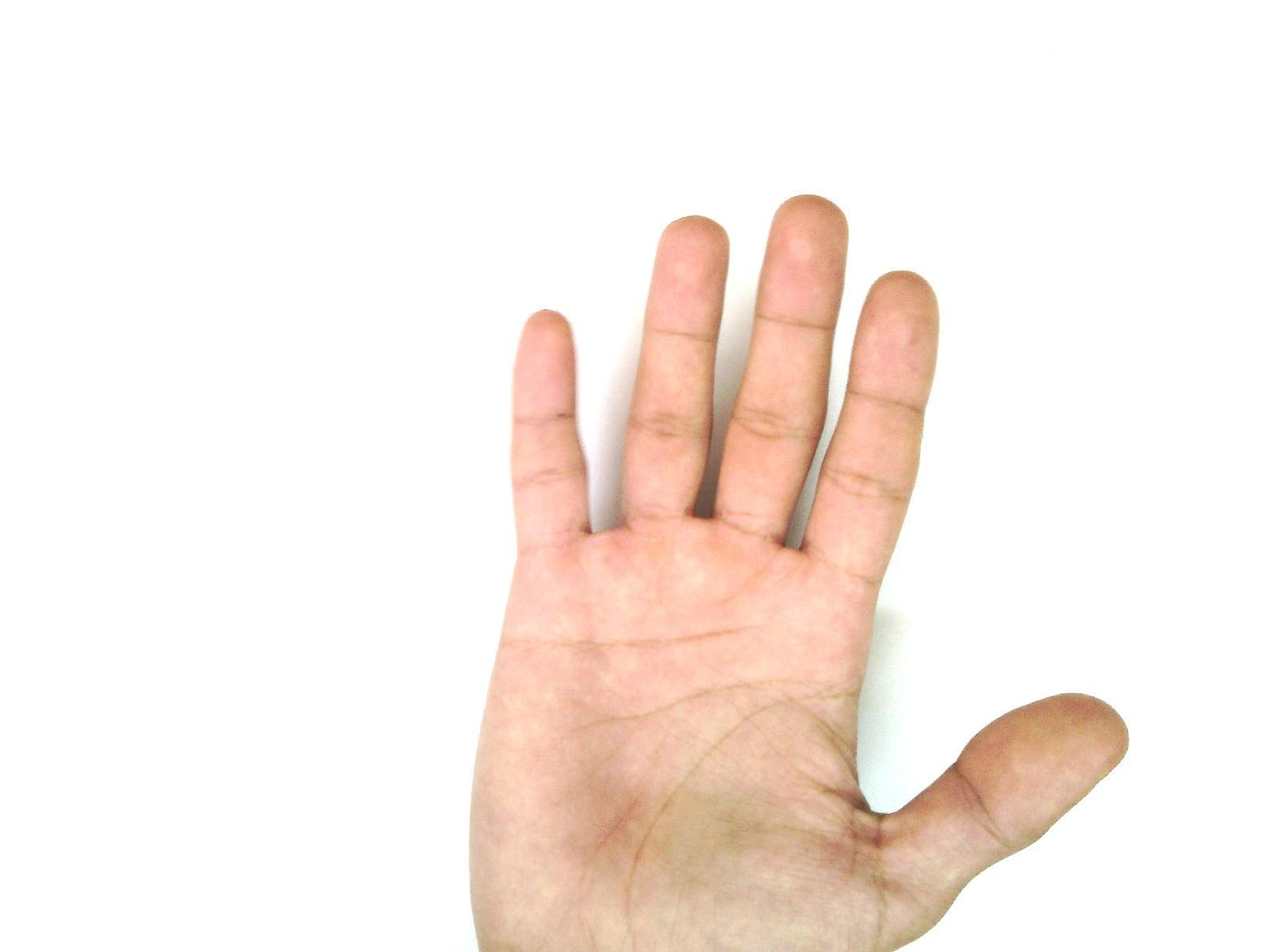open_palm: (464, 193, 1132, 952)
